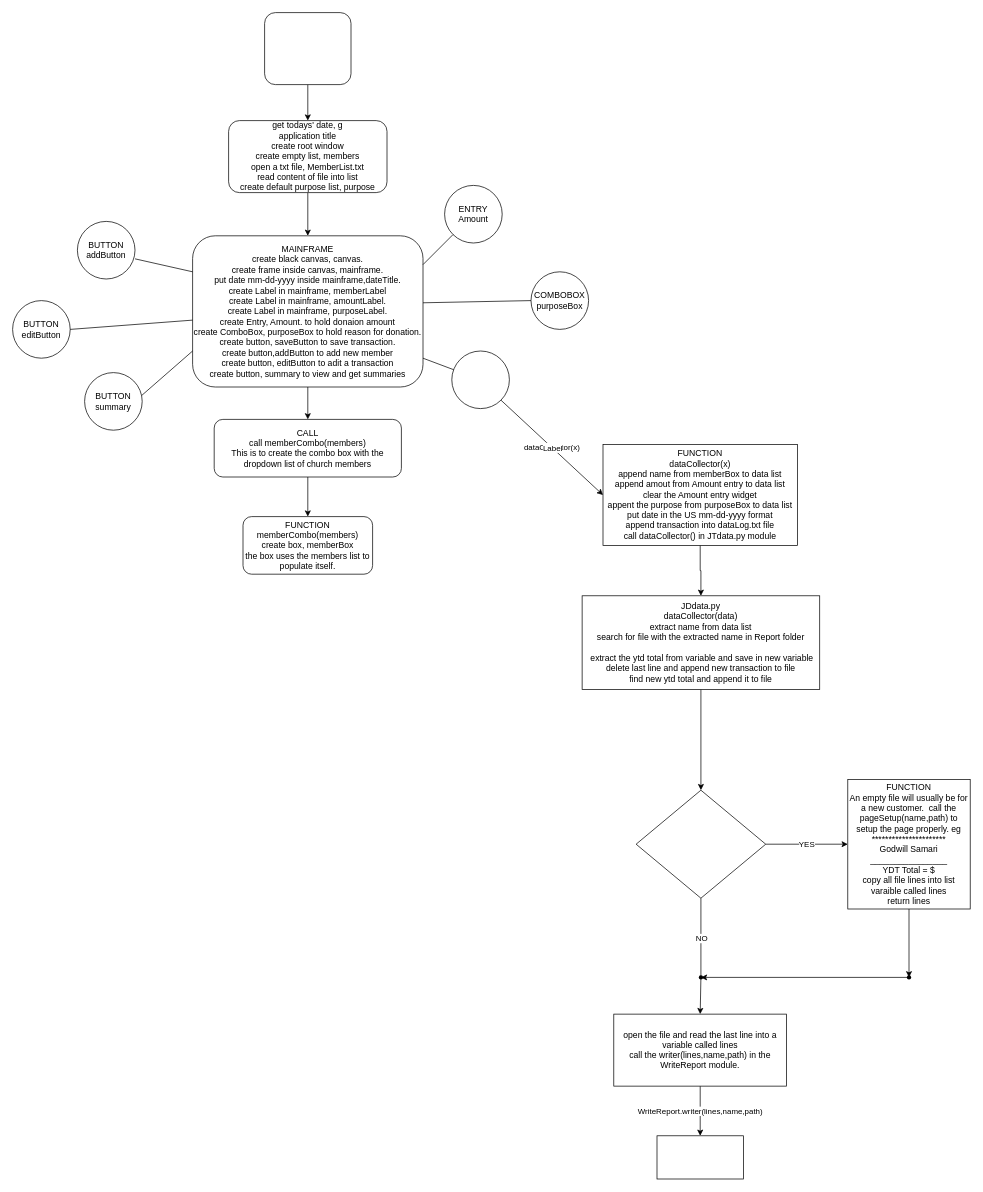
Image size: 983x1192. Some labels were removed from this diagram. The shapes that lost their labels are listed below. From the top down, each one's centre as x and y in pixels, then its label:
At (307,48): "Start import all tkinter import ttk from tkinter import datetime import JTdata".
At (480,379): "BUTTON saveButton".
At (700,843): "Is file is empty ?".
